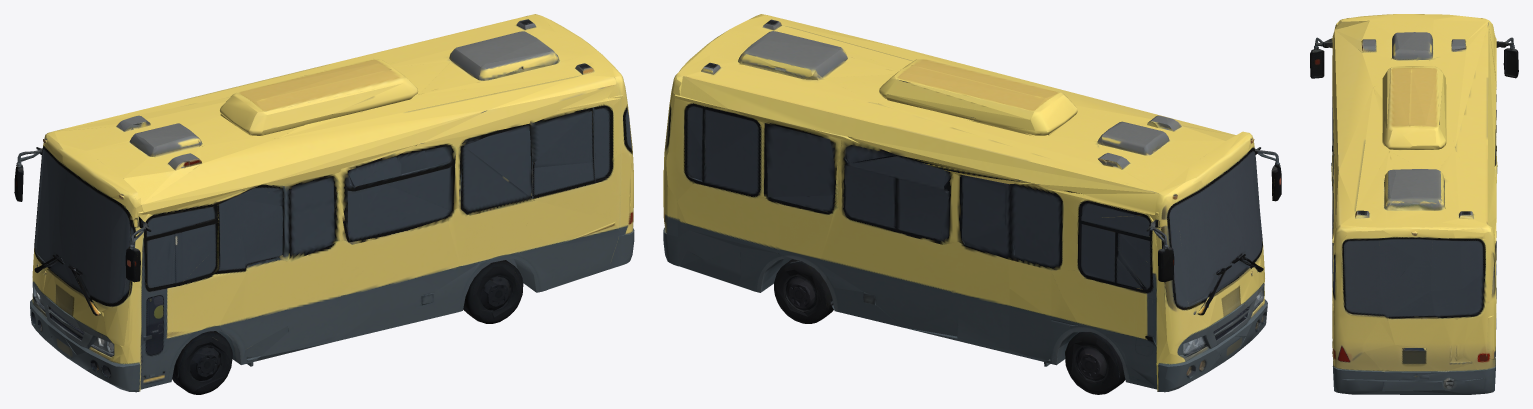
The picture shows the model from 3 angles, left to right: view 1: azimuth 30°, elevation 25°; view 2: azimuth 150°, elevation 25°; view 3: azimuth 270°, elevation 25°; orthographic projection. The views are drawn at different scales.
Bounding box in the file's own units: 1.9 × 0.8182 × 0.7345.
1 material, 1 textured.
